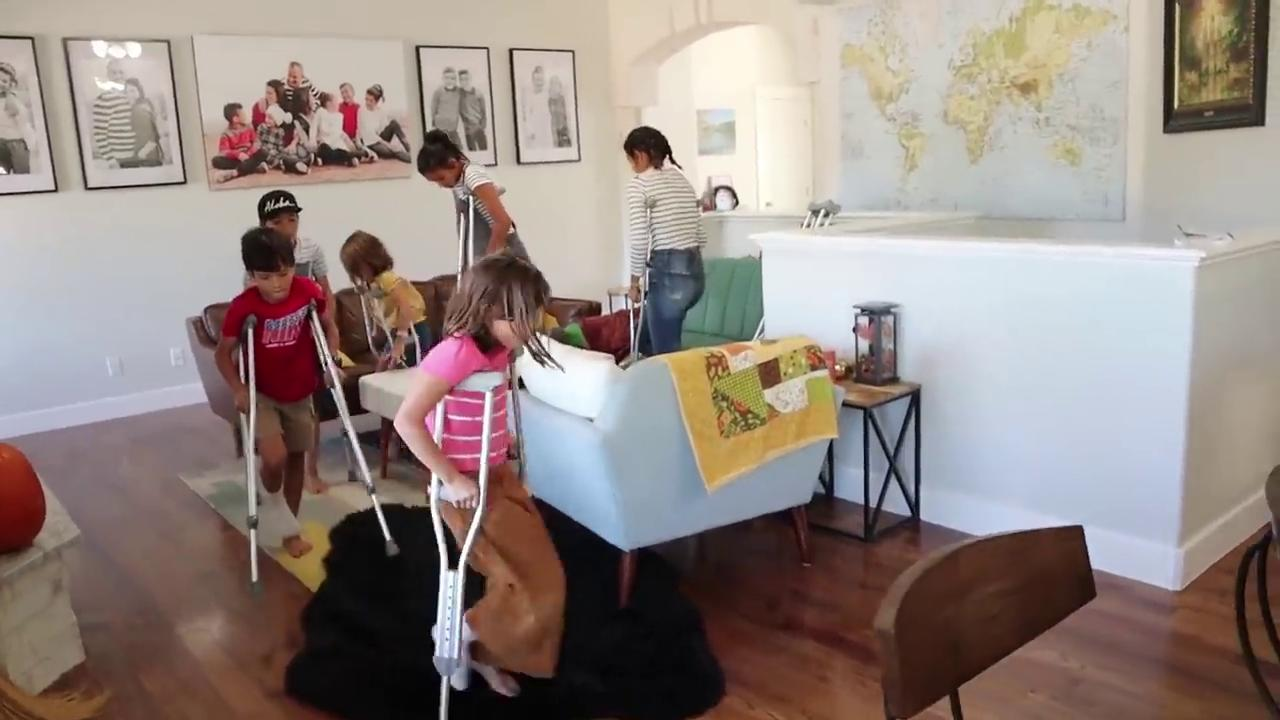crutches: (213, 227, 402, 601)
